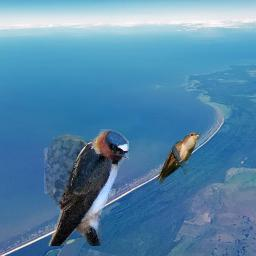Cuckoo: (156, 132, 201, 185)
Swallow: (44, 129, 129, 246)
